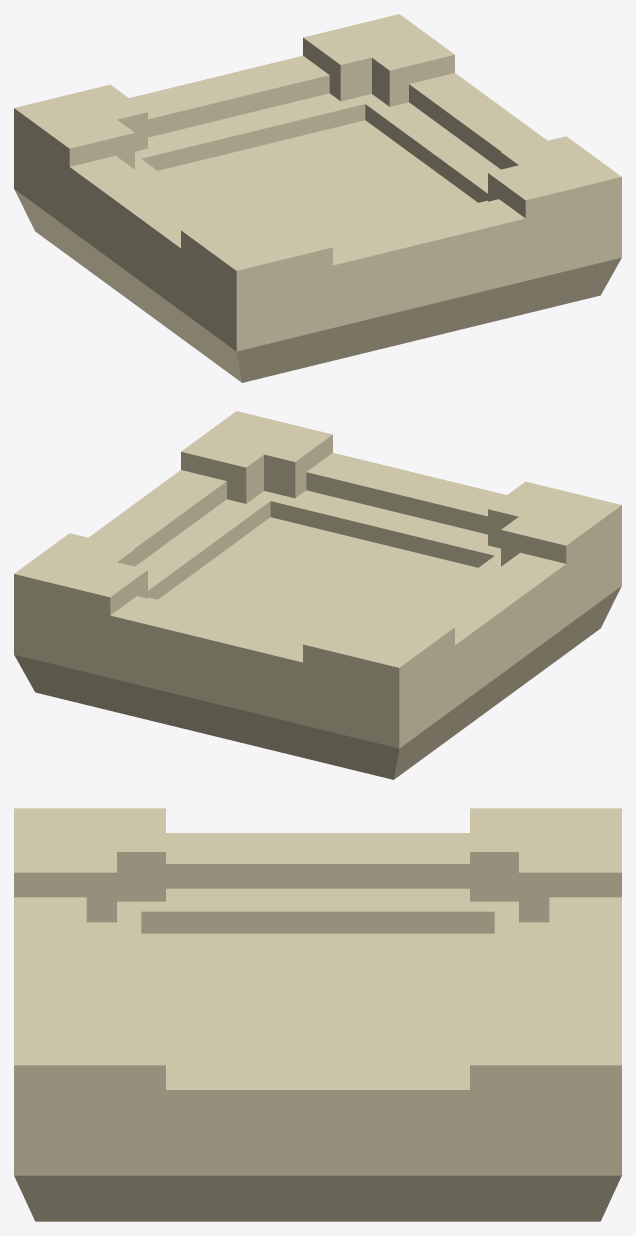
Rendered from towersquaretop.glb.
The picture shows the model from 3 angles, top to bottom: view 1: azimuth 30°, elevation 25°; view 2: azimuth 150°, elevation 25°; view 3: azimuth 270°, elevation 25°; orthographic projection. The views are drawn at different scales.
Visible parts, largest first — view 1: towerSquareTop; view 2: towerSquareTop; view 3: towerSquareTop.
Boxes of the visible parts, bbox=[...] form: towerSquareTop: bbox=[14, 14, 621, 382]; towerSquareTop: bbox=[14, 411, 621, 779]; towerSquareTop: bbox=[14, 808, 621, 1221].
Bounding box in the file's own units: 10 × 3 × 10.
